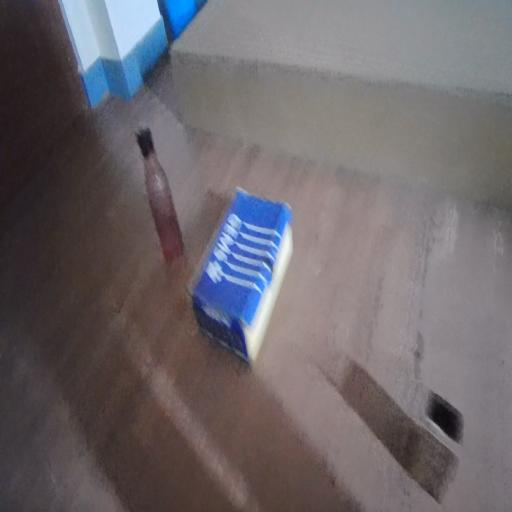Bottle: (126, 113, 189, 254)
